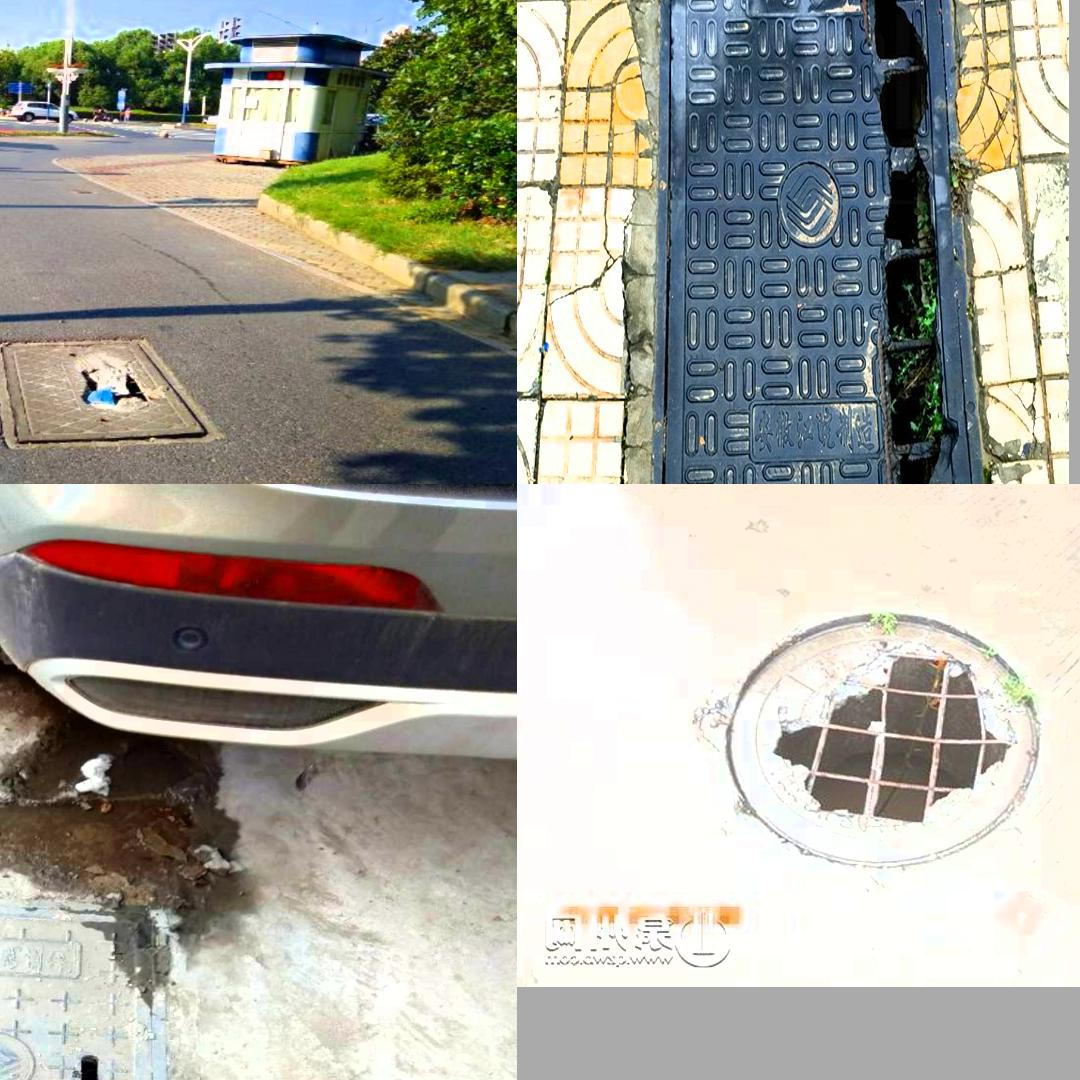broke: (653, 0, 986, 482), (679, 593, 1075, 893), (0, 891, 177, 1080), (0, 337, 223, 449)
